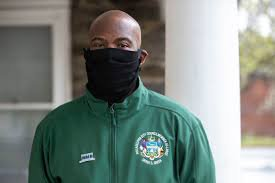mask: (78, 8, 152, 100)
